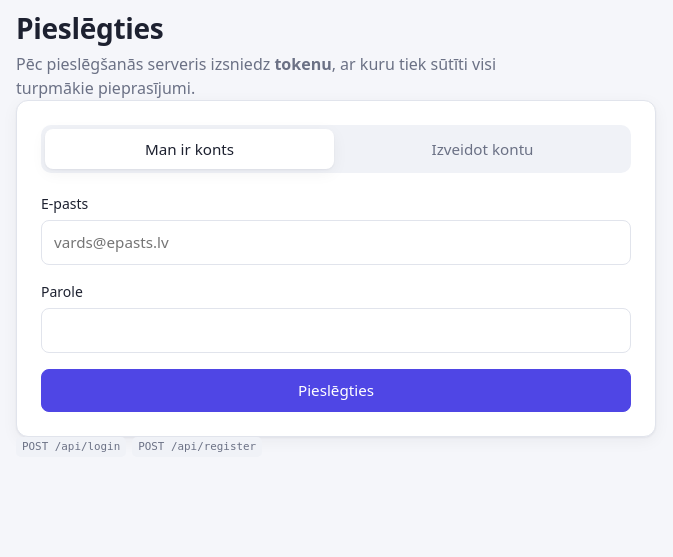
AccountView › switches to the register form
What coordinates should you click on to do the following:
click the button "Izveidot kontu"
I would click on:
 (482, 149)
Its box is [338,129,627,169].
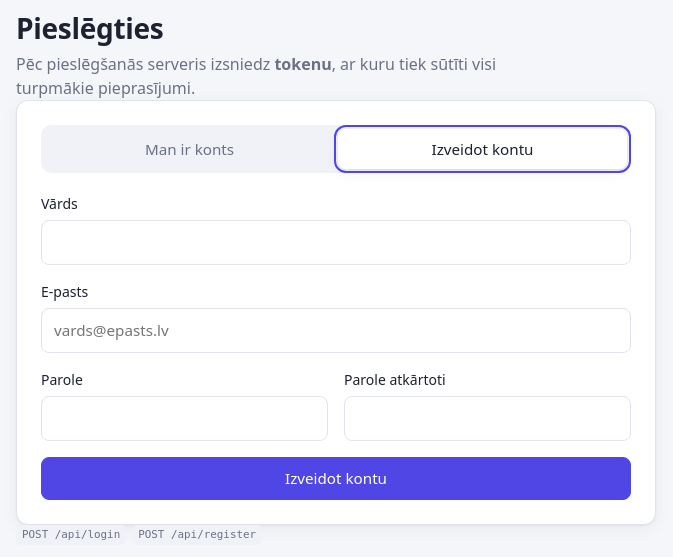
Expected: the form with id "register-form" is shown, [41,193,631,500]
Expected: the form with id "login-form" is gone
